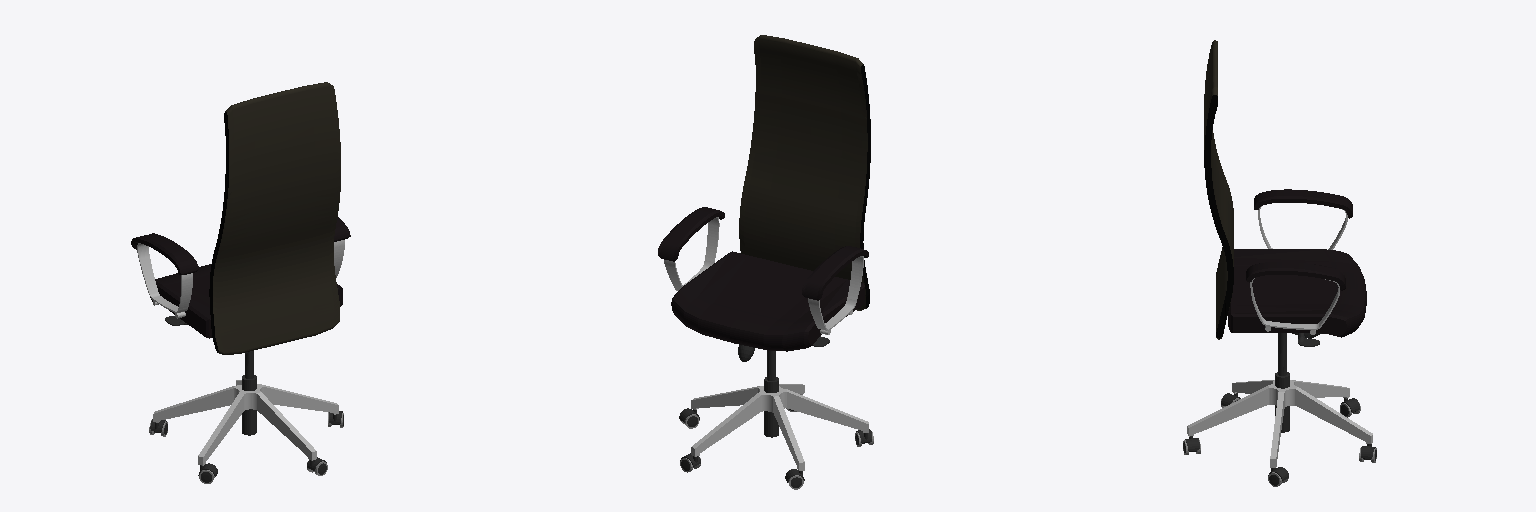
3 renders of one model, left to right at view 1: azimuth 30°, elevation 25°; view 2: azimuth 150°, elevation 25°; view 3: azimuth 270°, elevation 25°, orthographic.
Visible parts, largest first — view 1: Mesh1 Group1 Model, Mesh3 Group3 Model, Mesh6 Group6 Model, Mesh12 Group10 Armrest2 Model, Mesh13 Group11 Armrest2 Model, Mesh2 Group2 Model; view 2: Mesh1 Group1 Model, Mesh6 Group6 Model, Mesh3 Group3 Model, Mesh13 Group11 Armrest2 Model, Mesh9 Group9 Armrest1 Model, Mesh12 Group10 Armrest2 Model, Mesh8 Group8 Armrest1 Model, Mesh2 Group2 Model; view 3: Mesh6 Group6 Model, Mesh3 Group3 Model, Mesh1 Group1 Model, Mesh9 Group9 Armrest1 Model, Mesh13 Group11 Armrest2 Model, Mesh2 Group2 Model, Mesh8 Group8 Armrest1 Model.
Boxes of the visible parts, x1=… form: Mesh1 Group1 Model: x1=209, y1=82, x2=340, y2=354; Mesh3 Group3 Model: x1=153, y1=380, x2=338, y2=465; Mesh6 Group6 Model: x1=150, y1=264, x2=342, y2=338; Mesh12 Group10 Armrest2 Model: x1=137, y1=243, x2=192, y2=313; Mesh13 Group11 Armrest2 Model: x1=131, y1=233, x2=198, y2=274; Mesh2 Group2 Model: x1=242, y1=351, x2=256, y2=435; Mesh1 Group1 Model: x1=739, y1=35, x2=870, y2=310; Mesh6 Group6 Model: x1=671, y1=251, x2=864, y2=351; Mesh3 Group3 Model: x1=691, y1=384, x2=868, y2=470; Mesh13 Group11 Armrest2 Model: x1=802, y1=246, x2=868, y2=300; Mesh9 Group9 Armrest1 Model: x1=658, y1=207, x2=724, y2=261; Mesh12 Group10 Armrest2 Model: x1=808, y1=256, x2=863, y2=330; Mesh8 Group8 Armrest1 Model: x1=664, y1=217, x2=719, y2=290; Mesh2 Group2 Model: x1=764, y1=351, x2=778, y2=437; Mesh6 Group6 Model: x1=1228, y1=249, x2=1366, y2=337; Mesh3 Group3 Model: x1=1187, y1=380, x2=1372, y2=467; Mesh1 Group1 Model: x1=1204, y1=40, x2=1233, y2=339; Mesh9 Group9 Armrest1 Model: x1=1246, y1=262, x2=1345, y2=290; Mesh13 Group11 Armrest2 Model: x1=1254, y1=189, x2=1352, y2=218; Mesh2 Group2 Model: x1=1275, y1=333, x2=1289, y2=432; Mesh8 Group8 Armrest1 Model: x1=1250, y1=278, x2=1339, y2=329.
Size of the model in its own units: 0.4585 by 0.9401 by 0.4359.